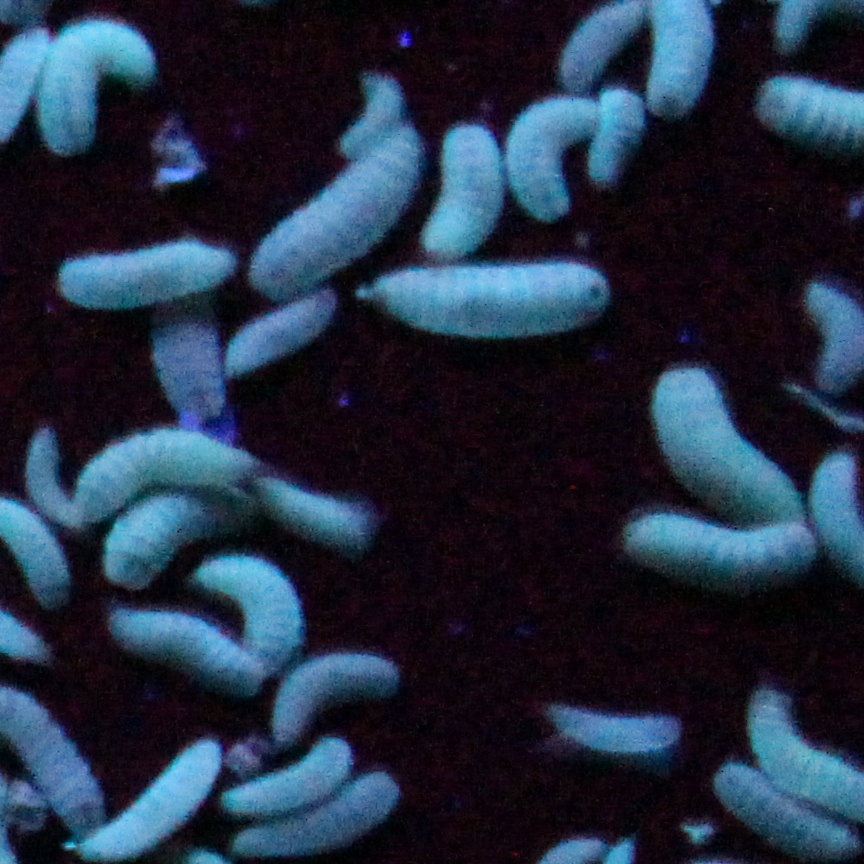larve: (245, 119, 448, 311), (355, 258, 626, 343), (653, 370, 799, 502), (62, 431, 240, 528), (45, 28, 189, 141), (243, 465, 392, 550), (82, 485, 209, 582), (60, 250, 238, 319), (106, 604, 277, 675), (223, 780, 401, 848), (219, 285, 340, 385), (619, 504, 809, 565), (270, 658, 397, 738), (511, 106, 594, 224), (226, 746, 353, 819), (216, 565, 301, 655), (438, 131, 494, 258), (158, 336, 228, 433), (553, 714, 687, 760), (26, 433, 82, 516), (604, 99, 636, 197)
